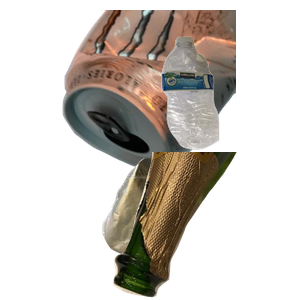glass: (111, 152, 300, 300)
metal: (60, 10, 300, 175)
plastic: (159, 34, 300, 176)
trash: (99, 155, 268, 300)
